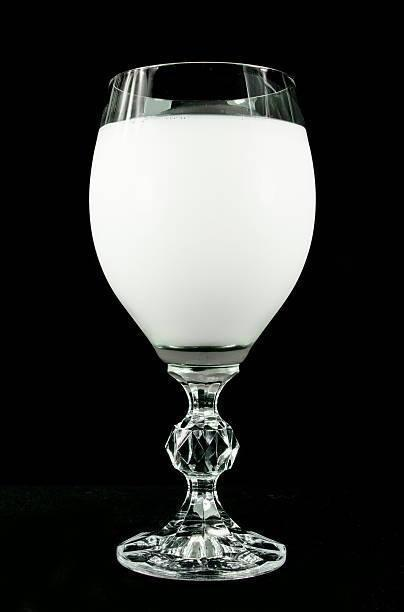glass-wine: (87, 58, 319, 583)
